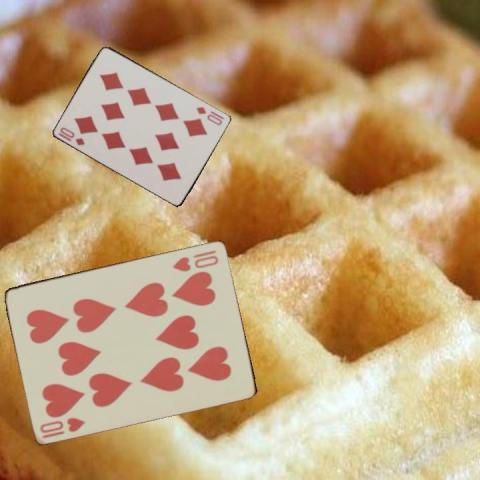10d: (193, 103, 224, 127), (57, 124, 87, 147)
10h: (169, 246, 220, 272), (37, 414, 87, 439)
